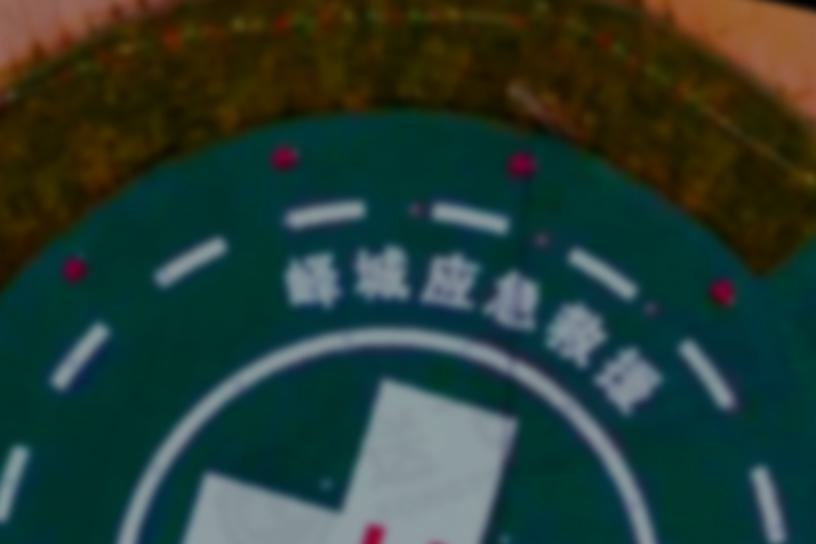Apron: (108, 303, 663, 544)
